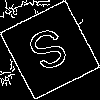S: (24, 25, 76, 81)
